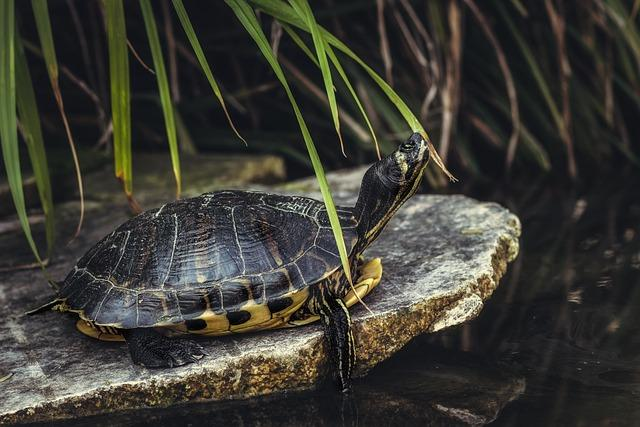Non_Gorille: (8, 58, 564, 401)
